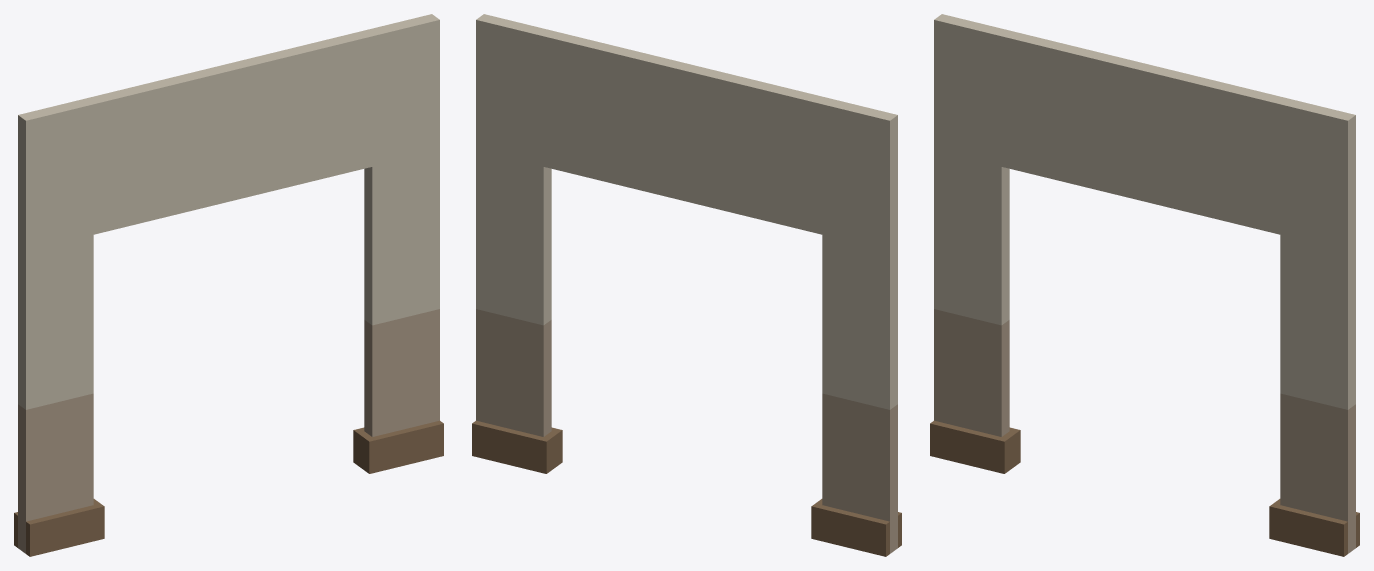
The model's file is Mesh_WallBaseboard2Colors_A5.fbx.
The picture shows the model from 3 angles, left to right: view 1: azimuth 30°, elevation 25°; view 2: azimuth 150°, elevation 25°; view 3: azimuth 330°, elevation 25°; orthographic projection.
Visible parts, largest first — view 1: Mesh_WallBaseboard2Colors_A5; view 2: Mesh_WallBaseboard2Colors_A5; view 3: Mesh_WallBaseboard2Colors_A5.
Boxes of the visible parts, x1,y1,x2,y2 form: Mesh_WallBaseboard2Colors_A5: (14, 14, 443, 556); Mesh_WallBaseboard2Colors_A5: (472, 14, 901, 556); Mesh_WallBaseboard2Colors_A5: (930, 14, 1359, 556).
Bounding box in the file's own units: 3 × 3 × 0.2.
